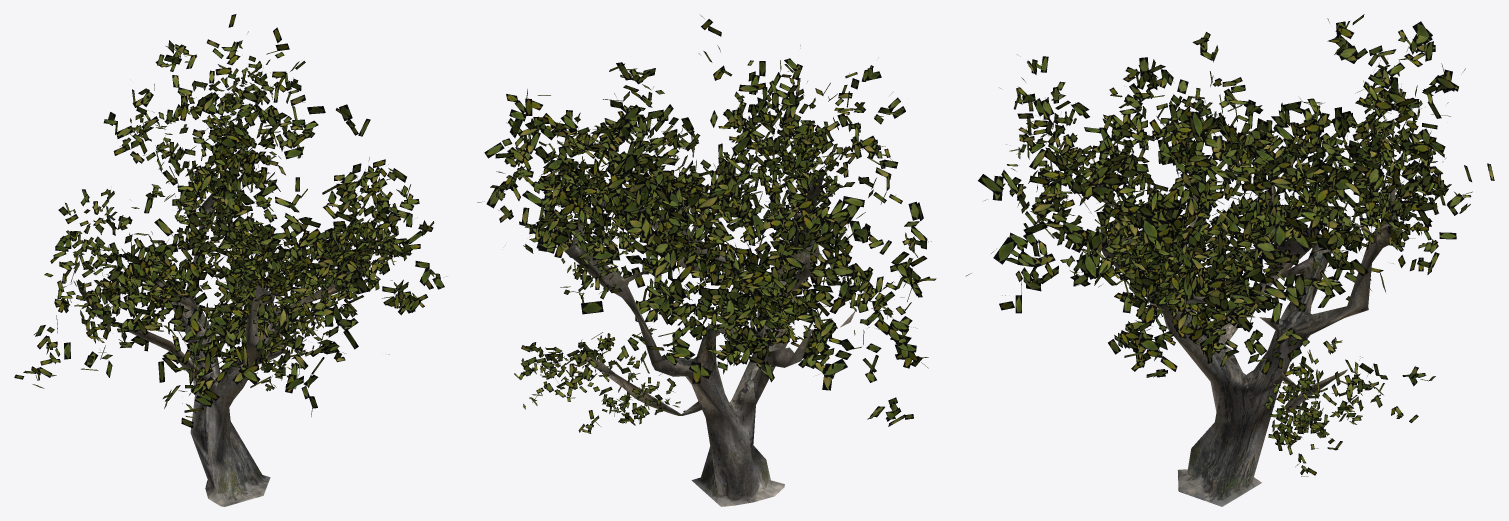
Rendered from island_tree_01.glb.
3 views of the same model, side by side, from view 1: azimuth 30°, elevation 25°; view 2: azimuth 150°, elevation 25°; view 3: azimuth 270°, elevation 25° (orthographic). The views are drawn at different scales.
Bounding box in the file's own units: 4.8 × 4.89 × 4.77.
3 materials, 3 textured.
